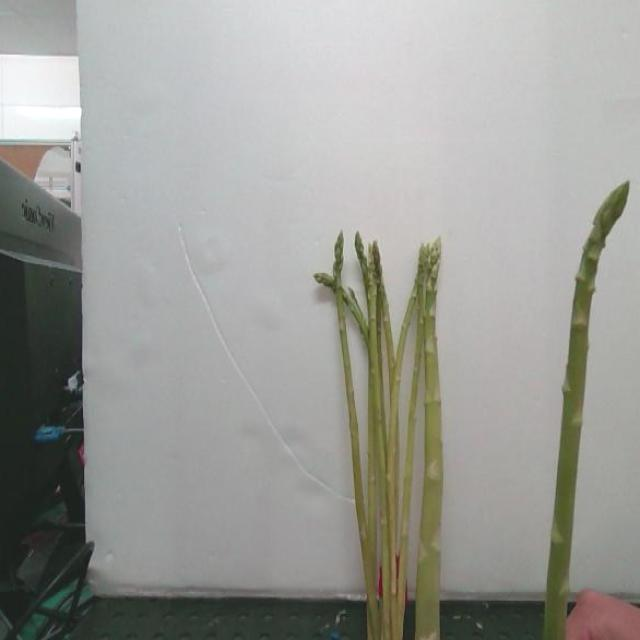aspargus: (544, 184, 631, 640)
